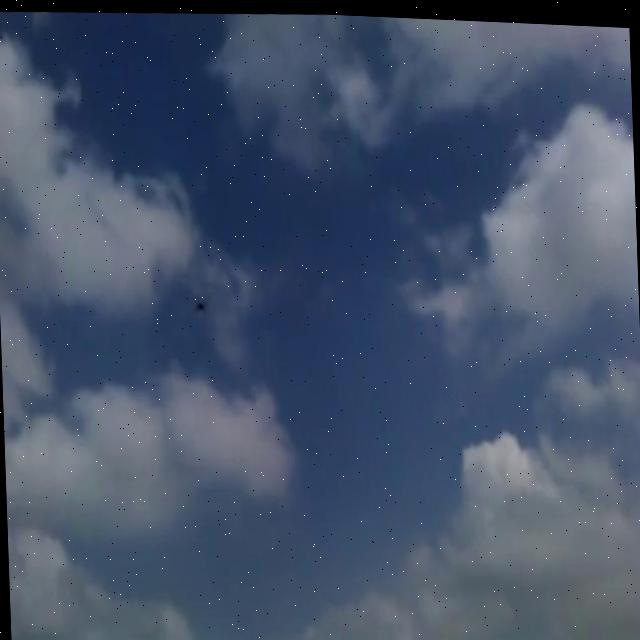drone: (190, 288, 210, 313)
